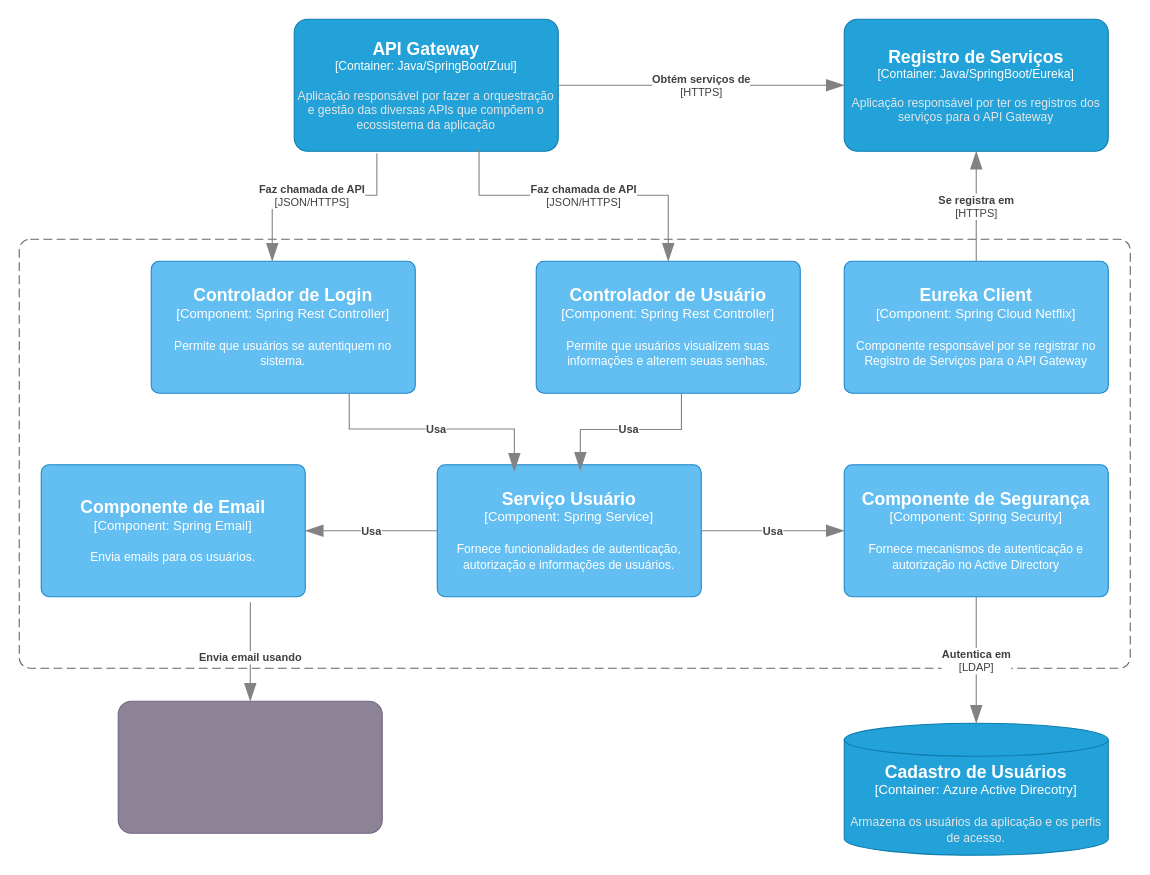
Image size: 1150x875. Some labels were removed from this diagram. Here are the shapes that lost their labels. From the top down, the box of each, then its label:
(18, 238, 1130, 668): Serviço de Autenticação [Container]
(117, 700, 382, 833): Sistema de Email [Software System] Serviço interno para envio de emails
